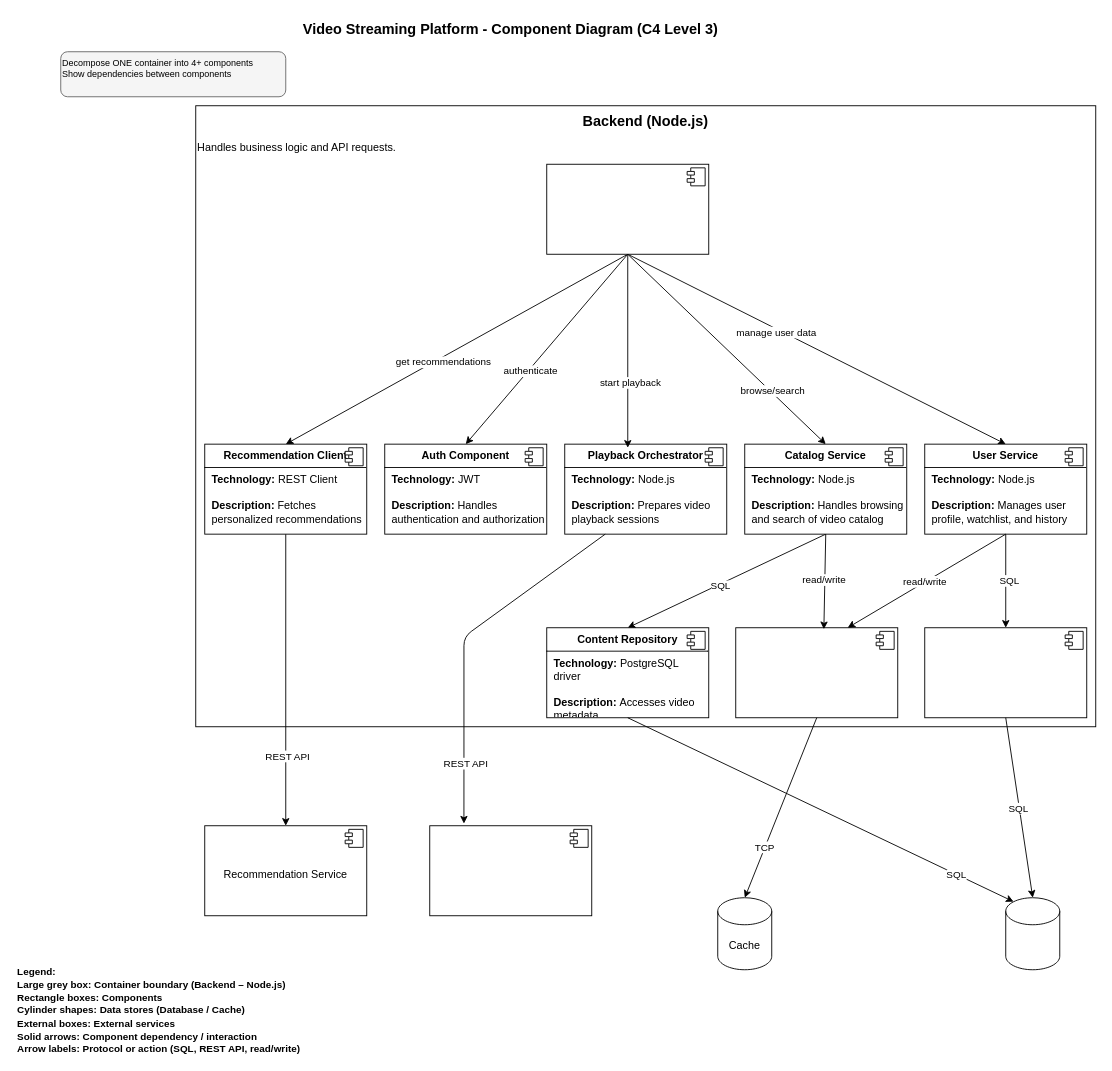
Some shapes in this 1112 by 1071 pixel diagram are drawn without their labels. Each missing label, with the centre of its shape:
API Controllers Technology: Express Description: Handles REST API endpoints.: the point at 627,208
Cache Adapter Technology: Redis client Description: Reads and writes cache: the point at 816,672
Database: the point at 1032,933
Streaming Service: the point at 510,870
User Repository Technology: PostgreSQL driver Description: Accesses user data: the point at 1005,672
